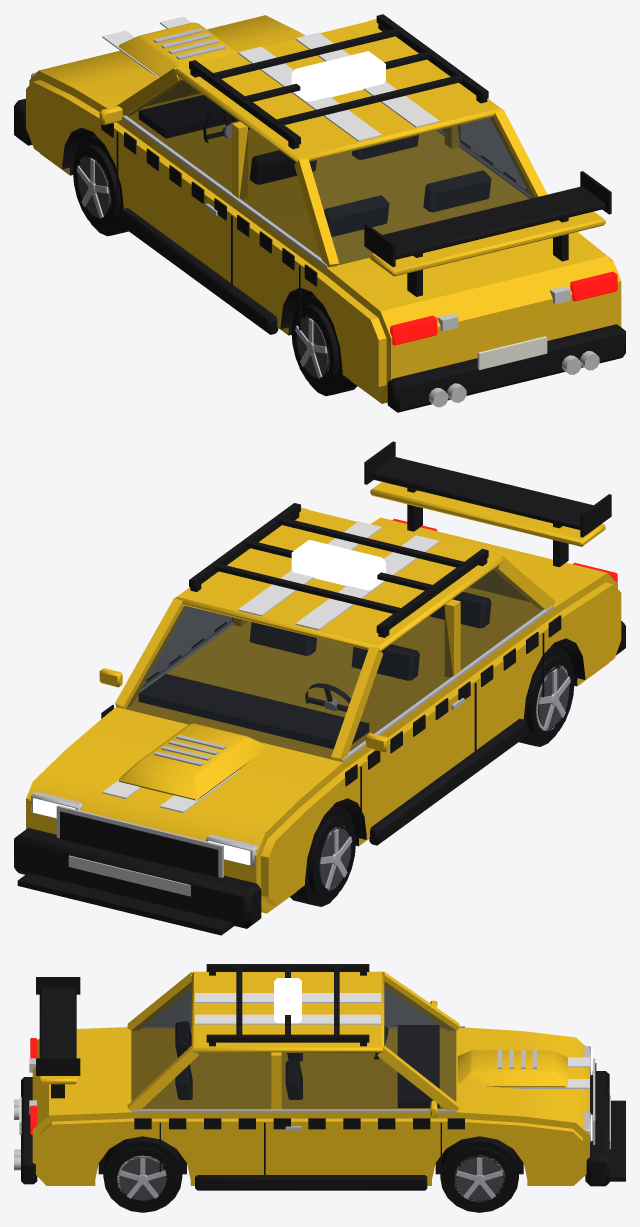
File: taxi.glb
3 renders of one model, top to bottom at view 1: azimuth 30°, elevation 25°; view 2: azimuth 150°, elevation 25°; view 3: azimuth 270°, elevation 25°, orthographic. The views are drawn at different scales.
Visible parts, largest first — view 1: Body.008, Mod_spoiler_2.006, Mod_roof_1.008, Mod_livery_1.008, Mod_spoiler_1.006, Wheel_RL.008, Wheel_FL.008, Mod_skirts_1.008, Mod_hood_1.008, Mod_exhaust_2.008, Mod_hood_2.008; view 2: Body.008, Mod_bumper_1.008, Mod_spoiler_2.006, Mod_roof_1.008, Mod_hood_1.008, Mod_livery_1.008, Mod_spoiler_1.006, Mod_grille_2.008, Wheel_FL.008, Wheel_RL.008, Mod_skirts_1.008, Mod_grille_1.008 (+2 smaller); view 3: Body.008, Wheel_FR.008, Wheel_RR.008, Mod_spoiler_2.006, Mod_roof_1.008, Mod_livery_1.008, Mod_hood_1.008, Mod_skirts_1.008, Mod_bumper_1.008, Mod_bumper_2.008, Mod_spoiler_1.006, Mod_hood_2.008.
Part boxes in pixels (x1,y1,x2,y2): Body.008: (26,15,625,412); Mod_spoiler_2.006: (364,171,611,296); Mod_roof_1.008: (189,14,488,149); Mod_livery_1.008: (102,16,439,141); Mod_spoiler_1.006: (370,211,605,296); Wheel_RL.008: (291,295,357,395); Wheel_FL.008: (73,135,128,236); Mod_skirts_1.008: (120,208,278,334); Mod_hood_1.008: (118,22,237,93); Mod_exhaust_2.008: (429,351,599,407); Mod_hood_2.008: (153,28,226,59); Body.008: (26,507,625,913); Mod_bumper_1.008: (14,828,261,928); Mod_spoiler_2.006: (364,441,611,566); Mod_roof_1.008: (189,503,488,637); Mod_hood_1.008: (118,723,265,800); Mod_livery_1.008: (102,521,439,812); Mod_spoiler_1.006: (370,482,605,566); Mod_grille_2.008: (56,805,223,877); Wheel_FL.008: (290,805,355,906); Wheel_RL.008: (519,645,574,746); Mod_skirts_1.008: (369,718,527,845); Mod_grille_1.008: (69,812,210,874); Body.008: (19,971,592,1185); Wheel_FR.008: (440,1136,518,1212); Wheel_RR.008: (103,1136,182,1212); Mod_spoiler_2.006: (36,977,80,1098); Mod_roof_1.008: (206,964,369,1046); Mod_livery_1.008: (195,993,589,1088); Mod_hood_1.008: (457,1050,567,1087); Mod_skirts_1.008: (195,1175,427,1190); Mod_bumper_1.008: (586,1071,610,1186); Mod_bumper_2.008: (609,1100,625,1181); Mod_spoiler_1.006: (39,1076,76,1098); Mod_hood_2.008: (497,1050,536,1068).
Size of the model in its own units: 2.2 by 1.69 by 5.27.
